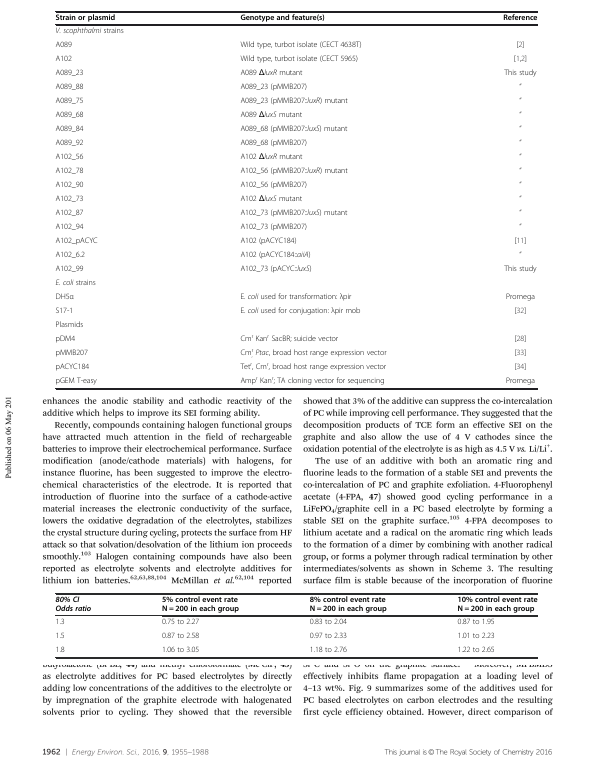borderless: (54, 10, 537, 388), (54, 592, 537, 657)
cell: (239, 347, 387, 359), (239, 361, 387, 373), (239, 375, 385, 387), (457, 596, 538, 614), (161, 596, 240, 614), (309, 596, 388, 614), (239, 41, 362, 51), (239, 307, 361, 317), (239, 55, 359, 65), (239, 333, 339, 345), (239, 293, 352, 303), (239, 97, 349, 107), (239, 167, 349, 177), (239, 125, 348, 135), (239, 209, 348, 219), (239, 14, 326, 23), (239, 265, 312, 275), (239, 251, 311, 261), (55, 27, 125, 37), (239, 83, 308, 93), (239, 139, 308, 149), (239, 181, 308, 191), (239, 223, 308, 233), (239, 69, 303, 79), (239, 111, 303, 121), (239, 153, 303, 163), (239, 195, 303, 205), (55, 596, 92, 613), (239, 237, 297, 247), (55, 14, 116, 23), (55, 237, 99, 247), (55, 377, 98, 387), (55, 279, 97, 289), (55, 363, 90, 373), (503, 69, 537, 79), (503, 265, 537, 275), (55, 349, 89, 359), (502, 14, 538, 23), (55, 251, 86, 261), (505, 293, 536, 303), (505, 377, 536, 387), (55, 69, 84, 79), (55, 83, 84, 93), (55, 97, 84, 107), (55, 111, 84, 121), (55, 125, 84, 135), (55, 139, 84, 149), (55, 153, 84, 163), (55, 167, 84, 177), (55, 181, 84, 191), (55, 195, 84, 205), (55, 209, 84, 219), (55, 223, 84, 233), (55, 265, 84, 275), (55, 321, 84, 331), (161, 619, 200, 626), (309, 619, 348, 626), (457, 619, 496, 626), (161, 633, 200, 640), (309, 633, 348, 640), (457, 633, 496, 640), (161, 647, 200, 654), (309, 647, 348, 654), (457, 647, 496, 654), (55, 335, 76, 345), (55, 293, 75, 303), (55, 307, 74, 317), (55, 41, 73, 51), (55, 55, 73, 65), (513, 55, 528, 65), (513, 237, 527, 247), (513, 307, 527, 317), (513, 335, 527, 345), (513, 349, 527, 359), (513, 363, 527, 373), (515, 41, 525, 51), (55, 619, 65, 626), (55, 633, 65, 640), (55, 647, 65, 654), (518, 83, 522, 91), (518, 97, 522, 105), (518, 111, 522, 119), (518, 125, 522, 133), (518, 139, 522, 147), (518, 153, 522, 161), (518, 167, 522, 175), (518, 181, 522, 189), (518, 195, 522, 203), (518, 209, 522, 217), (518, 223, 522, 231), (518, 251, 522, 259)
